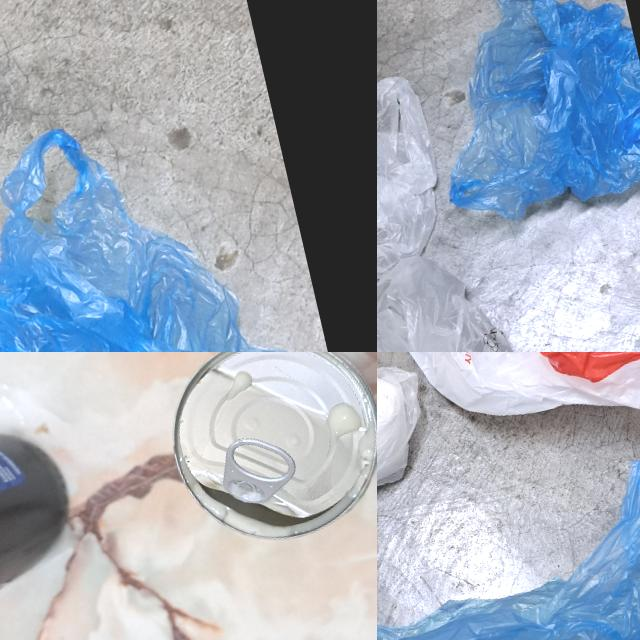aba de lata: (212, 425, 306, 510)
garrafa de vidro: (0, 407, 95, 640)
lata: (149, 352, 377, 561)
sacola plástica: (0, 86, 310, 352), (402, 0, 640, 237), (377, 448, 640, 640), (377, 352, 640, 493), (377, 58, 463, 339), (377, 231, 572, 352), (377, 353, 439, 511)
